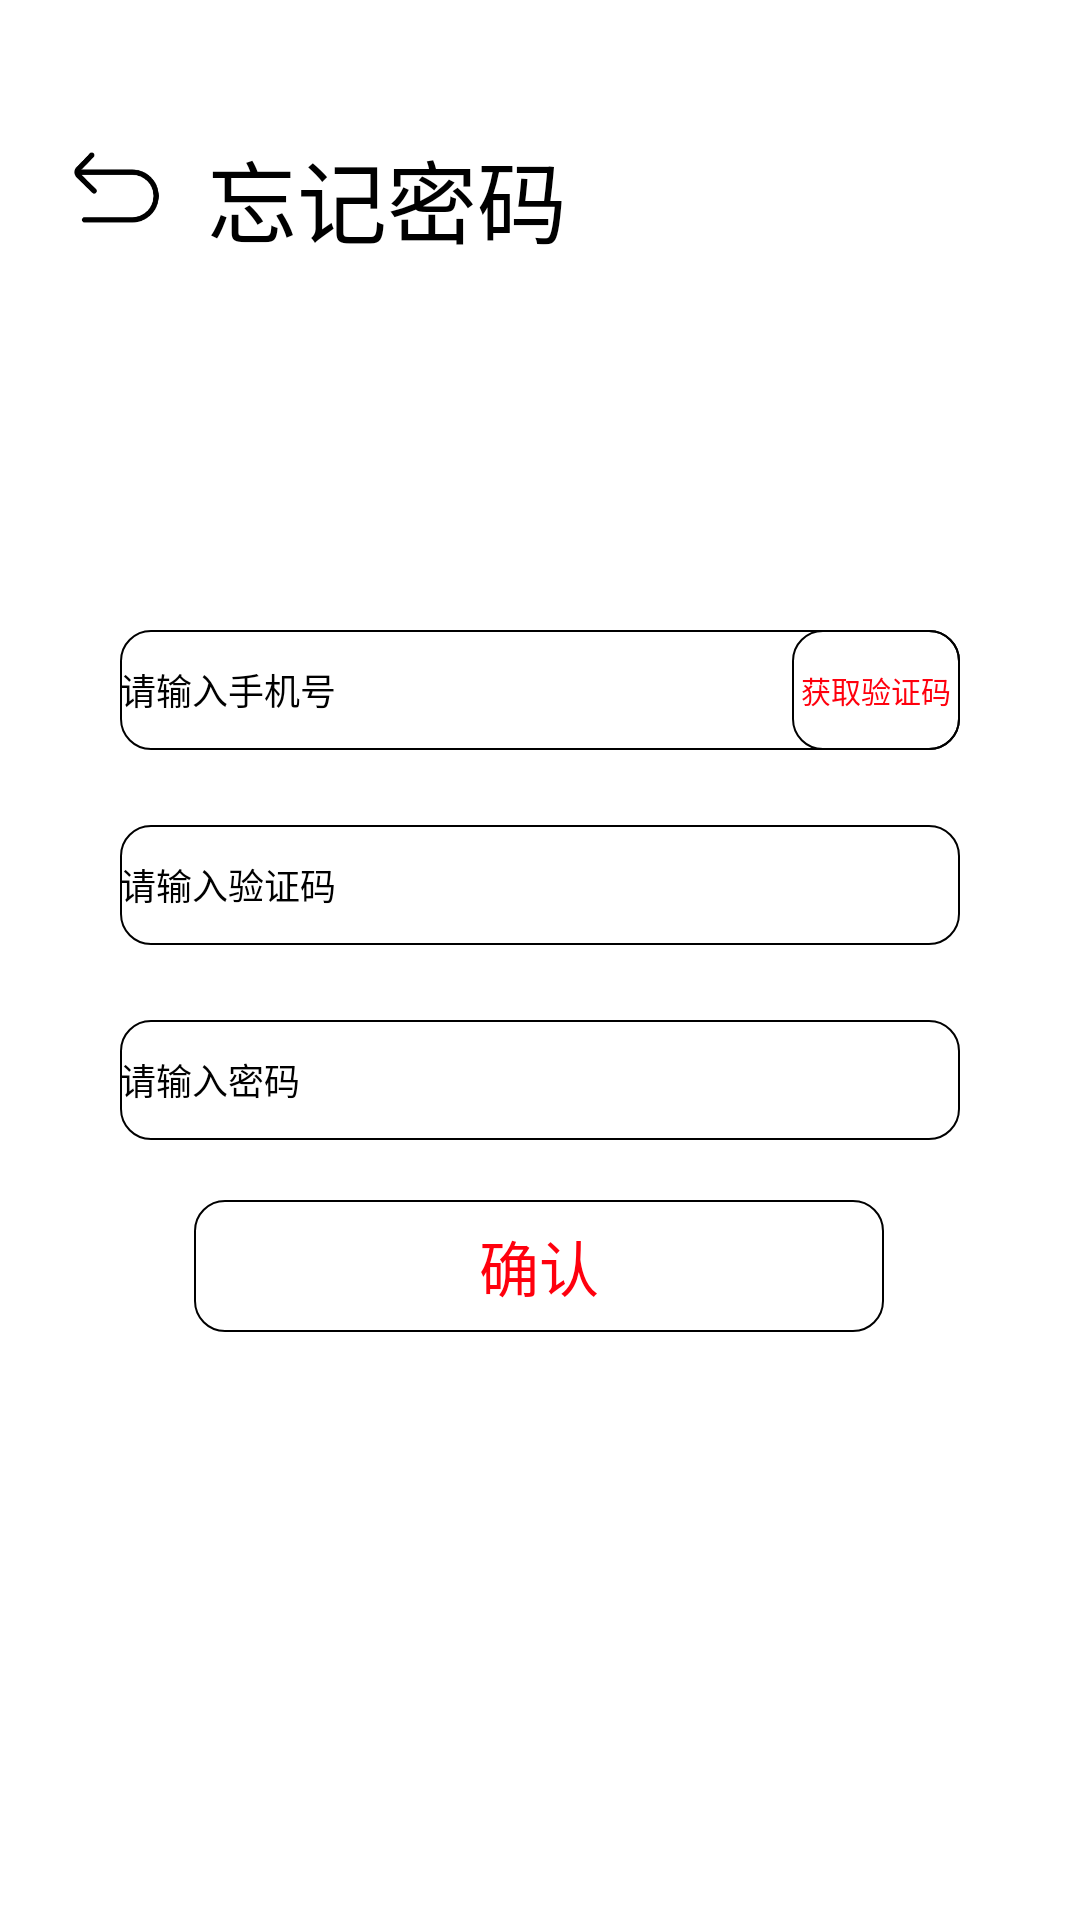

Icons on this 1080 × 1920 Android screen, each with the point to tap as (x=x, y=y):
return: (x=116, y=187)
